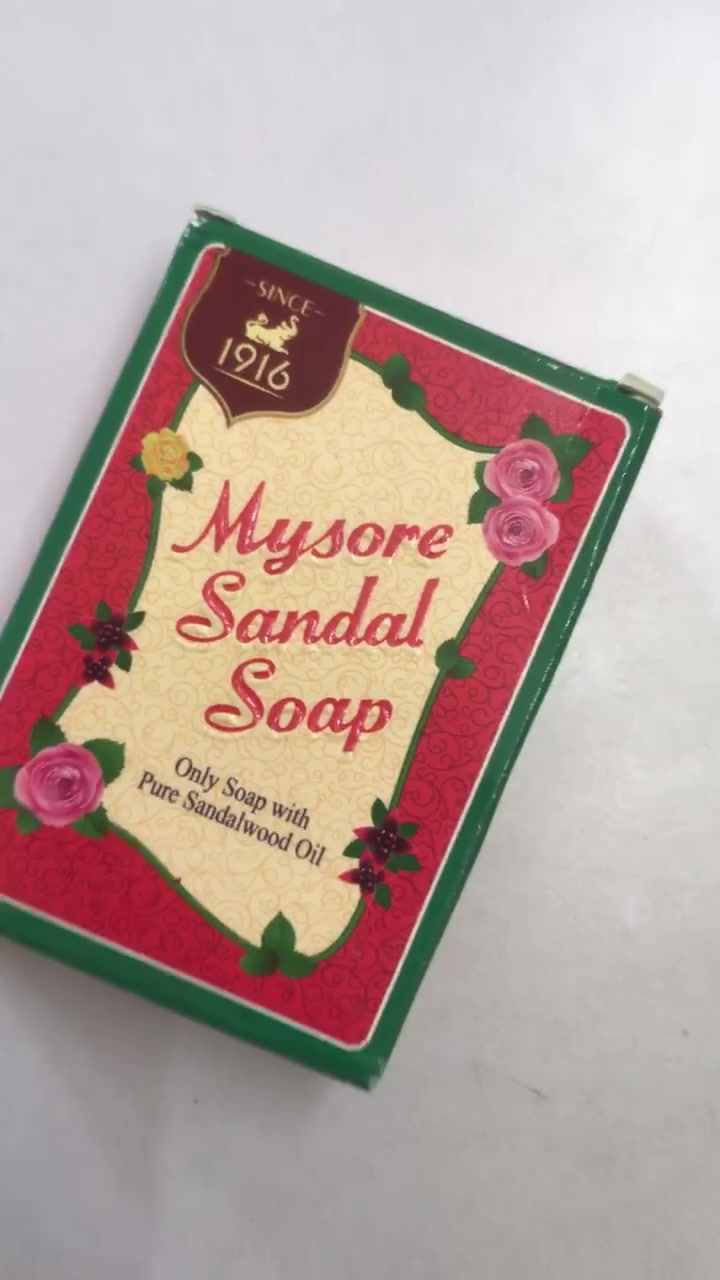mysore sandal soap: (5, 205, 664, 1096)
